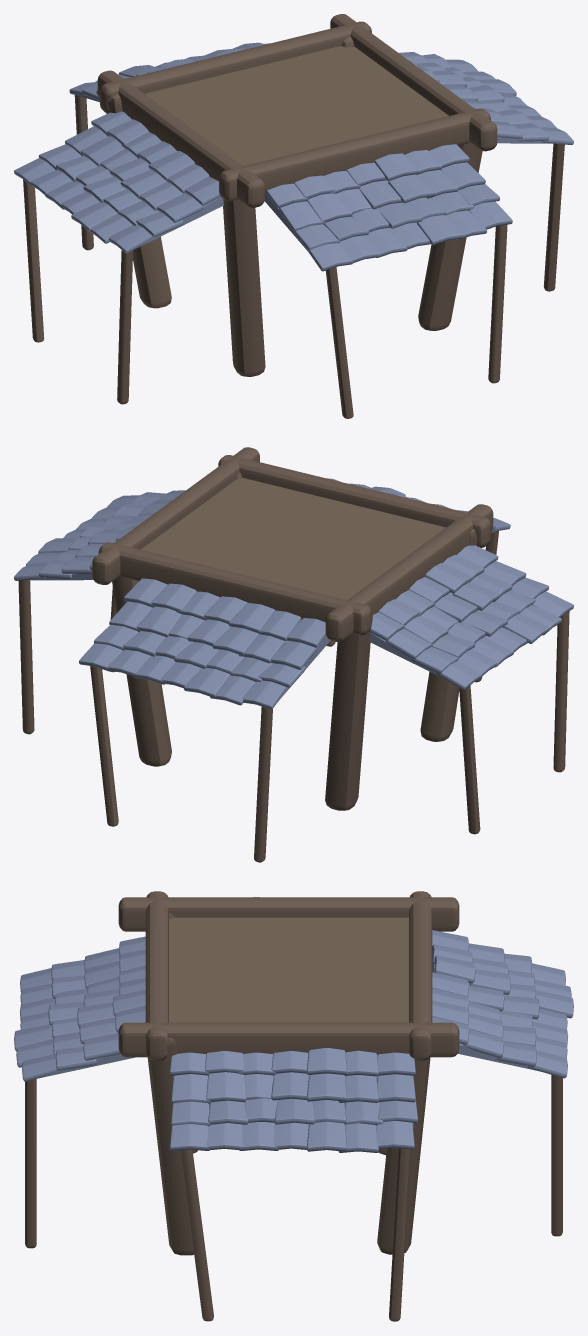
The model's file is DakBolletjeWol.fbx.
3 views of the same model, one above another, from view 1: azimuth 30°, elevation 25°; view 2: azimuth 150°, elevation 25°; view 3: azimuth 270°, elevation 25° (orthographic). The views are drawn at different scales.
Parts seen in each view (by area): view 1: polySurface3406; view 2: polySurface3406; view 3: polySurface3406.
Part boxes in pixels (x1,y1,x2,y2): polySurface3406: [14, 14, 573, 418]; polySurface3406: [14, 447, 573, 862]; polySurface3406: [14, 891, 573, 1321].
Bounding box in the file's own units: 5.02 × 2.28 × 4.77.
